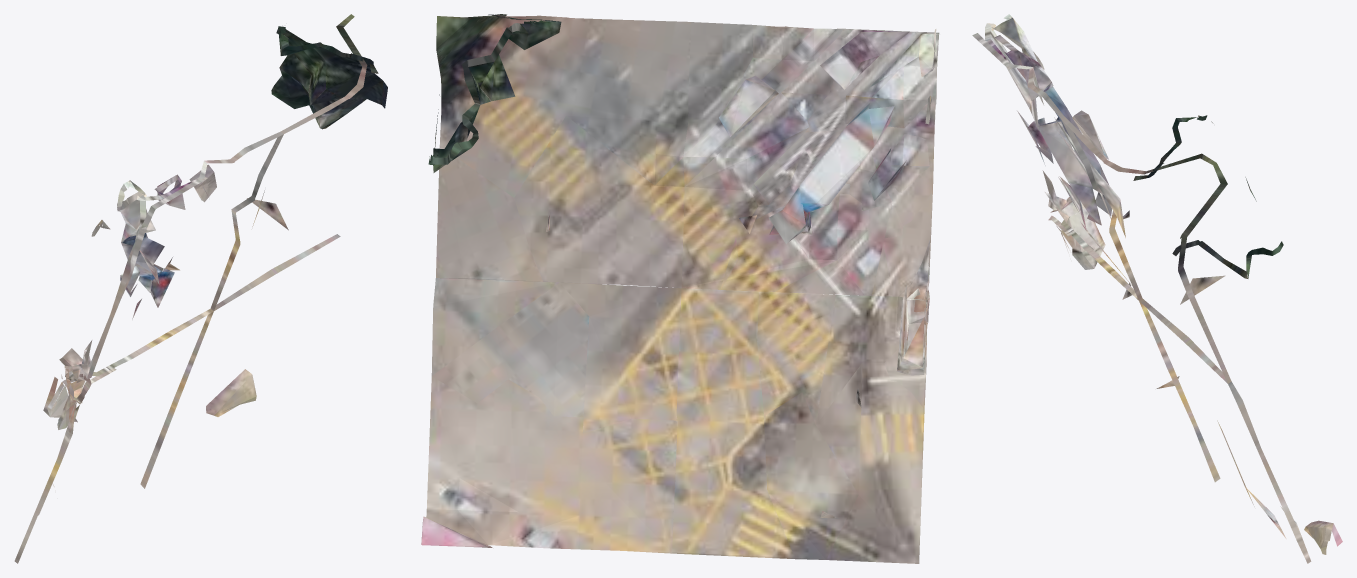
File: AJVsH2zCAJV2ek-RM86kWuJpGYo8pFXaRs07X4_upmnT8QEnzayD_WnWIYB95AlvtdbnjYzA_bxXu1o4Frt2TrsU8AF-6-kkcxvBc2UV3wGFJMnEuz3JgsFAkCwghM3MiRMBVYEdSgm83HvbV3CnFAW5gPN-.glb
The picture shows the model from 3 angles, left to right: view 1: azimuth 30°, elevation 25°; view 2: azimuth 150°, elevation 25°; view 3: azimuth 270°, elevation 25°; orthographic projection. The views are drawn at different scales.
Size of the model in its own units: 37.35 by 38.86 by 30.36.
Materials: 1 (1 with a texture image).
